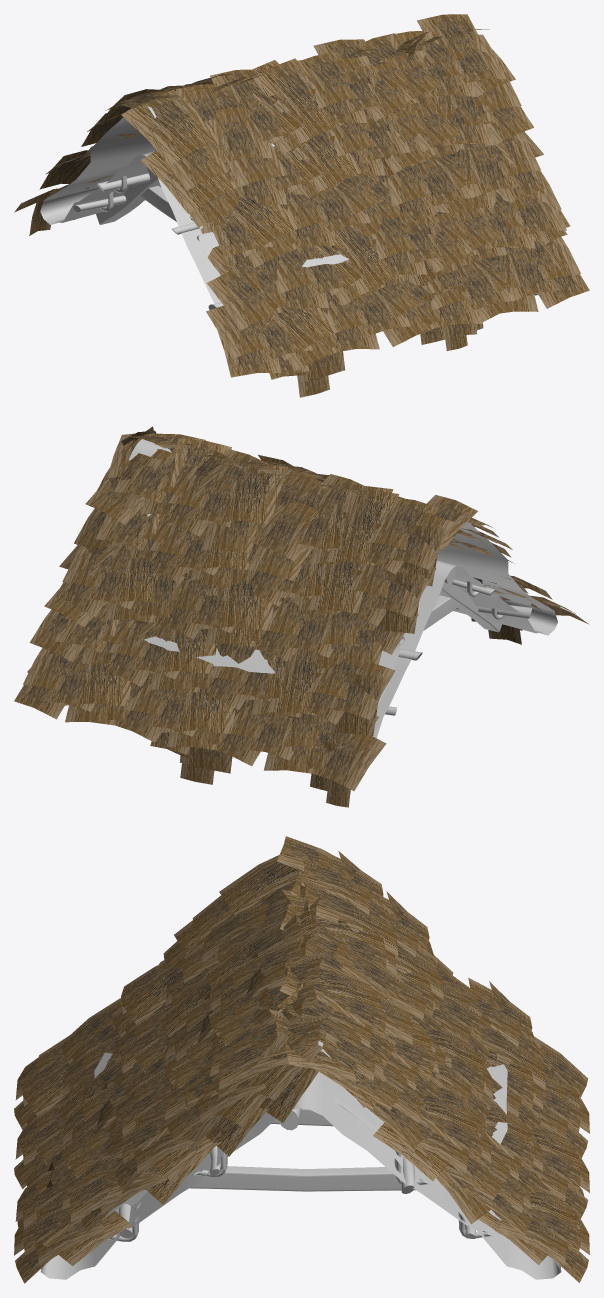
The model's file is SM_roofMiddle6m_a1.fbx.
3 renders of one model, top to bottom at view 1: azimuth 30°, elevation 25°; view 2: azimuth 150°, elevation 25°; view 3: azimuth 270°, elevation 25°, orthographic. The views are drawn at different scales.
Parts seen in each view (by area): view 1: SM_roofMiddle6m_a1_LOD0; view 2: SM_roofMiddle6m_a1_LOD0; view 3: SM_roofMiddle6m_a1_LOD0.
Boxes of the visible parts, x1,y1,x2,y2 form: SM_roofMiddle6m_a1_LOD0: (14,14,589,397); SM_roofMiddle6m_a1_LOD0: (14,426,588,807); SM_roofMiddle6m_a1_LOD0: (14,836,589,1283).
Bounding box in the file's own units: 706 × 765 × 421.
Materials: 4 (1 with a texture image).
